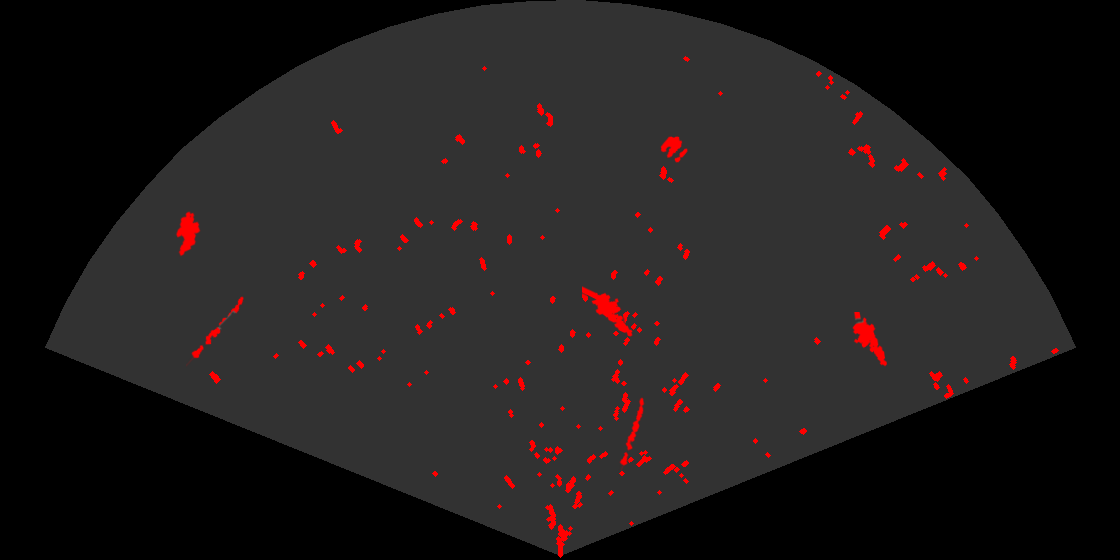AUV: (174, 210, 202, 258)
ball: (659, 135, 689, 164)
chain: (186, 295, 245, 368), (618, 396, 646, 471)
frogman: (582, 285, 634, 338), (851, 312, 889, 368)
